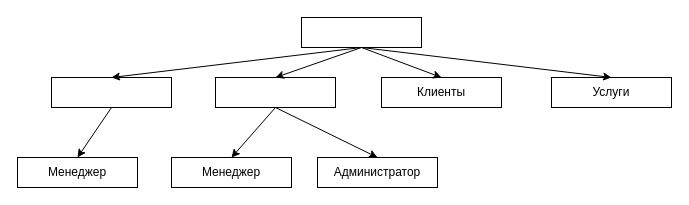
The diagram is 689 pixels wide and 205 high, and some of its shapes have lost their labels. The shapes that lost their labels are listed below. From the top down, each one's centre as x and y in pixels, then its label:
At point (361, 32): "Все точки зрения".
At point (111, 92): "Фирмы".
At point (275, 92): "Сотрудники".
